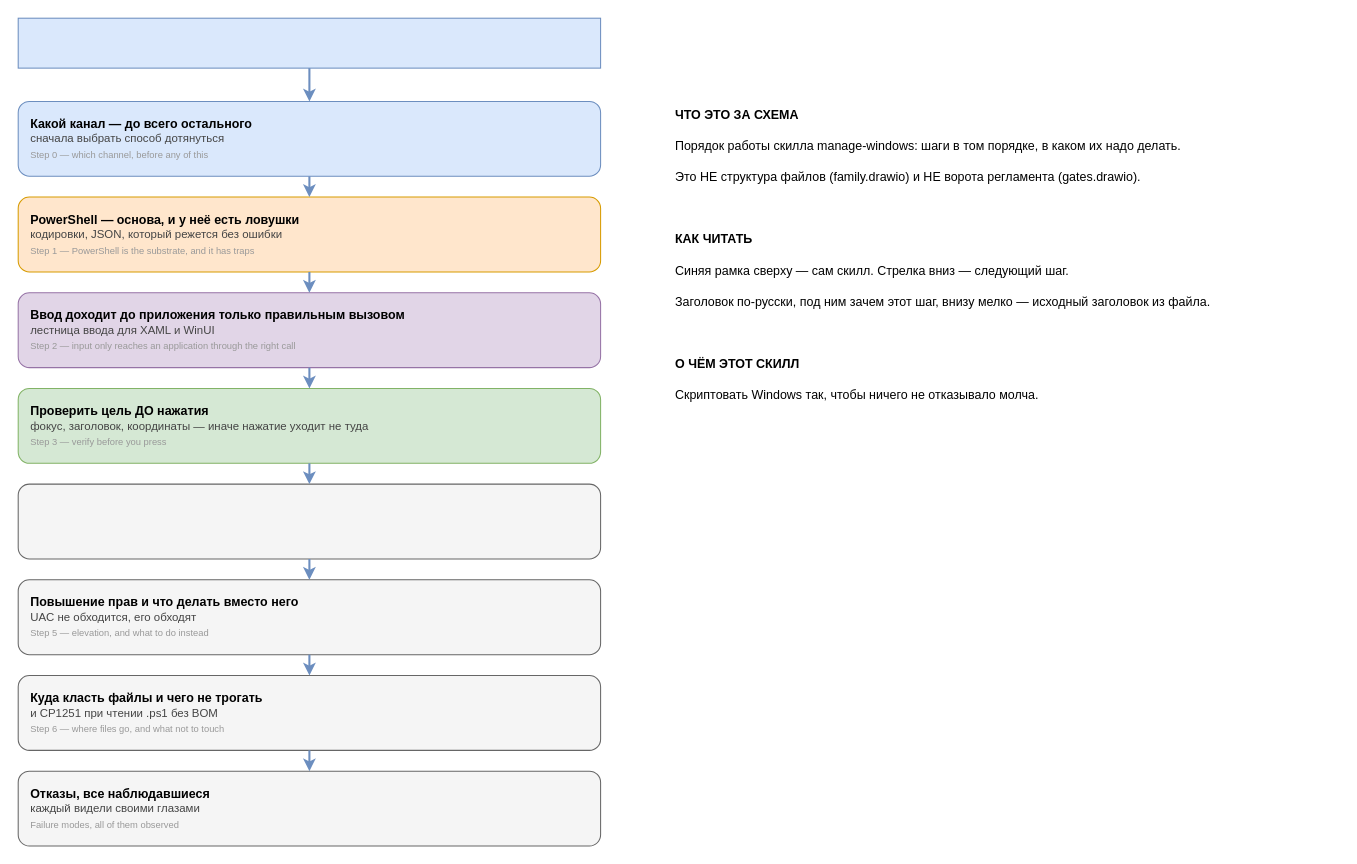
This 1357x864 diagram has some shape labels left out. The centre of each missing label's shape, as x and y in pixels:
"Мерить, а не предполагать окно, DPI, масштаб Step 4 — measure, do not assume" goes at (309,521).
"Работа с Windows" goes at (309,42).
